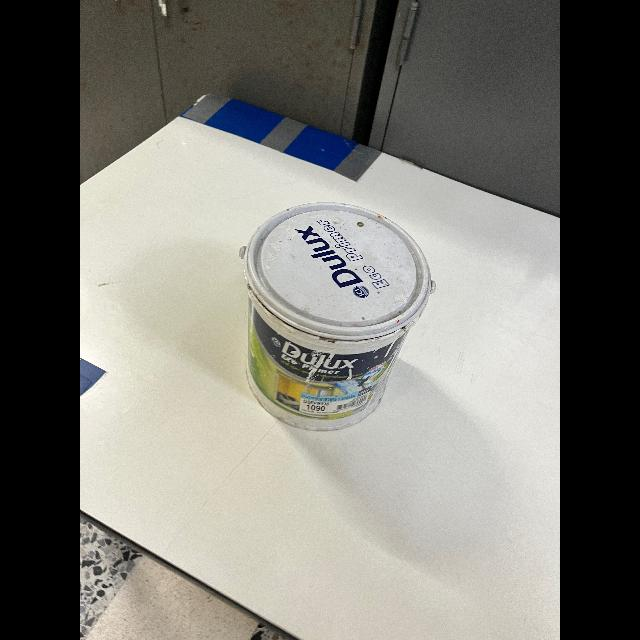paint_bucket: (232, 190, 446, 440)
